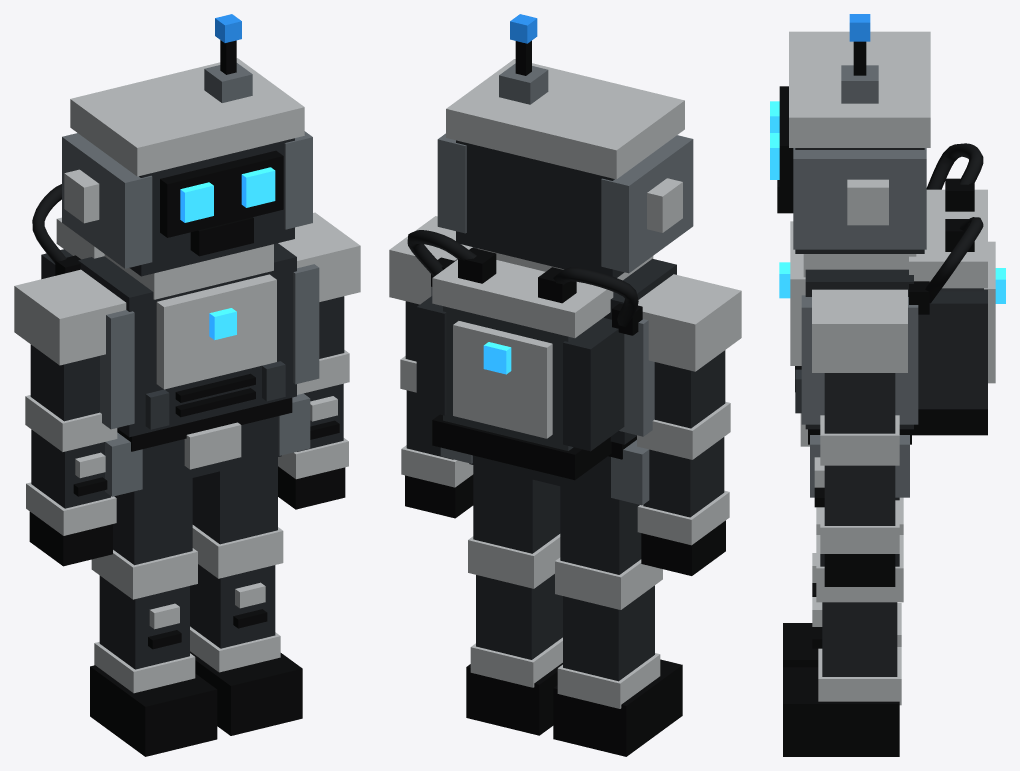
The model's file is mech-pilot.glb.
3 views of the same model, side by side, from view 1: azimuth 30°, elevation 25°; view 2: azimuth 150°, elevation 25°; view 3: azimuth 270°, elevation 25° (orthographic). The views are drawn at different scales.
Parts seen in each view (by area): view 1: pale-helmet-top-cap, pale-front-chest-armor, thick-charcoal-driving-suit-torso, left-black-blocky-boot, left-square-shoulder-armor, left-helmet-cheek-armor, right-black-blocky-boot, right-dark-upper-leg-suit, left-dark-upper-leg-suit, left-dark-lower-leg-suit, black-front-visor-panel, wide-dark-voxel-helmet-shell (+42 smaller); view 2: pale-helmet-top-cap, wide-dark-voxel-helmet-shell, pale-outer-rear-backpack-panel, pale-backpack-top-cap, left-helmet-cheek-armor, left-square-shoulder-armor, left-dark-backpack-side-battery, left-black-blocky-boot, left-dark-lower-leg-suit, right-dark-upper-leg-suit, right-dark-lower-leg-suit, left-dark-upper-leg-suit (+32 smaller); view 3: pale-helmet-top-cap, right-helmet-cheek-armor, right-square-shoulder-armor, right-dark-backpack-side-battery, right-black-blocky-boot, right-dark-lower-leg-suit, right-dark-upper-arm-sleeve, right-dark-forearm-sleeve, pale-backpack-top-cap, right-torso-side-armor, right-pale-elbow-guard, right-pale-wrist-guard (+23 smaller).
Boxes of the visible parts, box(x1,y1,x2,y2) form: pale-helmet-top-cap: box(70, 58, 304, 176); pale-front-chest-armor: box(156, 274, 276, 389); thick-charcoal-driving-suit-torso: box(78, 243, 296, 437); left-black-blocky-boot: box(90, 665, 217, 756); left-square-shoulder-armor: box(14, 269, 126, 365); left-helmet-cheek-armor: box(62, 133, 152, 268); right-black-blocky-boot: box(190, 651, 302, 735); right-dark-upper-leg-suit: box(192, 457, 277, 544); left-dark-upper-leg-suit: box(113, 478, 192, 565); left-dark-lower-leg-suit: box(99, 575, 189, 669); black-front-visor-panel: box(160, 150, 283, 237); wide-dark-voxel-helmet-shell: box(129, 138, 294, 276); pale-helmet-top-cap: box(446, 59, 684, 179); wide-dark-voxel-helmet-shell: box(456, 140, 624, 277); pale-outer-rear-backpack-panel: box(453, 321, 552, 438); pale-backpack-top-cap: box(432, 259, 613, 338); left-helmet-cheek-armor: box(601, 135, 693, 273); left-square-shoulder-armor: box(638, 274, 741, 371); left-dark-backpack-side-battery: box(563, 317, 624, 451); left-black-blocky-boot: box(553, 659, 682, 756); left-dark-lower-leg-suit: box(563, 585, 654, 681); right-dark-upper-leg-suit: box(473, 465, 560, 553); right-dark-lower-leg-suit: box(476, 574, 562, 659); left-dark-upper-leg-suit: box(560, 486, 641, 574); pale-helmet-top-cap: box(789, 31, 930, 147); right-helmet-cheek-armor: box(793, 148, 926, 249); right-square-shoulder-armor: box(812, 289, 907, 372); right-dark-backpack-side-battery: box(918, 289, 987, 409); right-black-blocky-boot: box(783, 667, 899, 756); right-dark-lower-leg-suit: box(822, 602, 897, 676); right-dark-upper-arm-sleeve: box(824, 373, 895, 433); right-dark-forearm-sleeve: box(824, 465, 895, 525); pale-backpack-top-cap: box(909, 189, 987, 288); right-torso-side-armor: box(801, 295, 918, 424); right-pale-elbow-guard: box(820, 415, 899, 465); right-pale-wrist-guard: box(820, 500, 899, 553).
Size of the model in its own units: 1.76 by 3.81 by 1.13.
